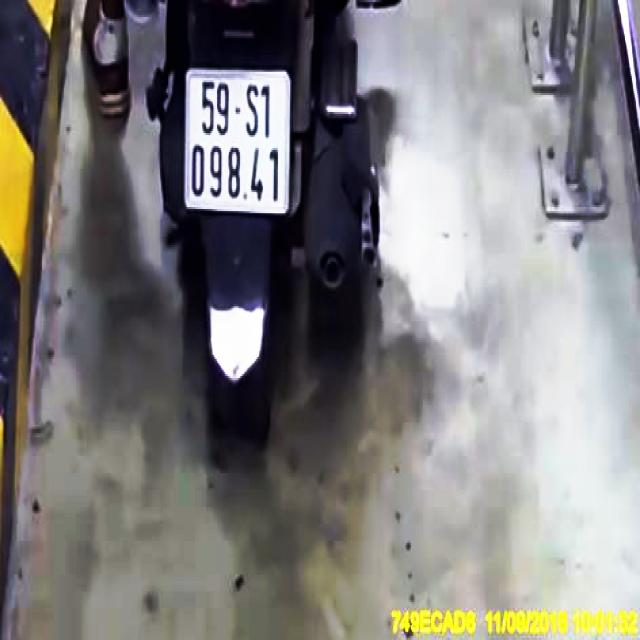license_plate: (186, 67, 294, 212)
